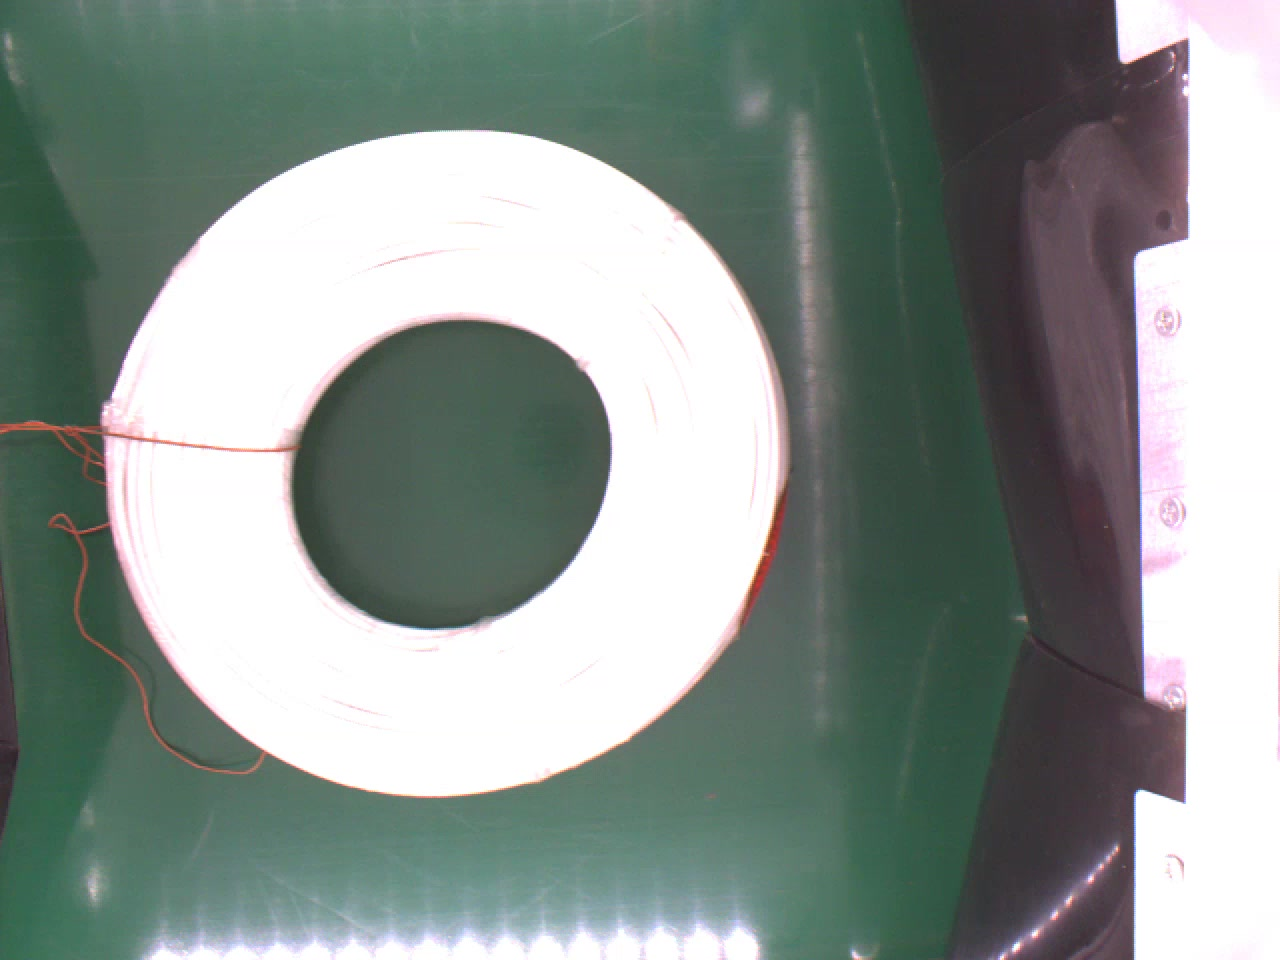white: (97, 124, 806, 804)
